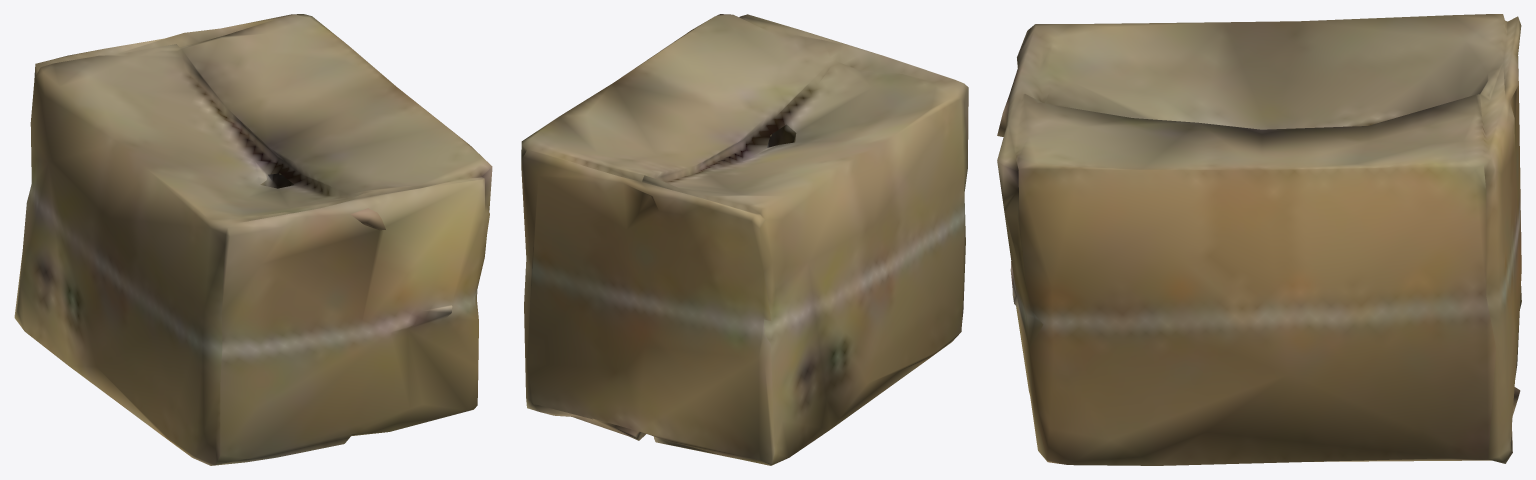
The model's file is cardboard_box_lod1.glb.
3 views of the same model, side by side, from view 1: azimuth 30°, elevation 25°; view 2: azimuth 150°, elevation 25°; view 3: azimuth 270°, elevation 25° (orthographic). The views are drawn at different scales.
Visible parts, largest first — view 1: cardboard_box.001; view 2: cardboard_box.001; view 3: cardboard_box.001.
Boxes of the visible parts, bbox=[...] form: cardboard_box.001: bbox=[14, 14, 492, 465]; cardboard_box.001: bbox=[521, 14, 968, 465]; cardboard_box.001: bbox=[997, 14, 1521, 465].
Bounding box in the file's own units: 0.3824 × 0.3397 × 0.5138.
Materials: 1 (1 with a texture image).
